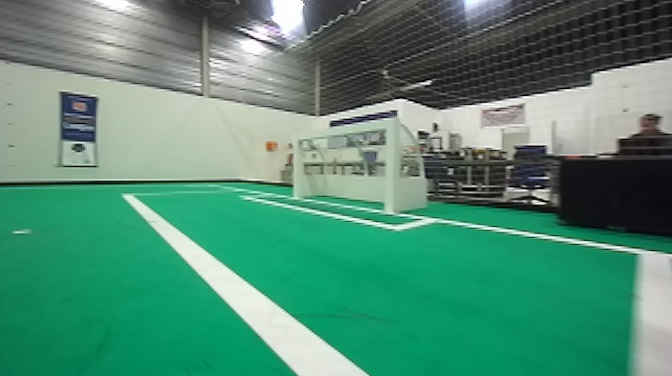goalpost: (371, 113, 403, 230), (288, 128, 306, 203)
